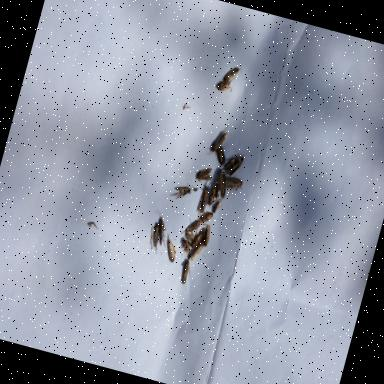pbw: (194, 179, 214, 222), (152, 214, 174, 248), (222, 150, 246, 180), (212, 121, 231, 157), (146, 218, 164, 248), (161, 238, 180, 266), (224, 172, 246, 196), (210, 169, 226, 201), (192, 165, 214, 188), (186, 238, 204, 266), (180, 230, 197, 256), (173, 182, 195, 202), (178, 258, 194, 285), (191, 226, 207, 252), (216, 174, 230, 201), (206, 178, 219, 207), (222, 65, 240, 85), (212, 146, 228, 168), (185, 217, 201, 237), (215, 79, 233, 96), (200, 226, 212, 248), (200, 210, 214, 226), (212, 200, 222, 216)
